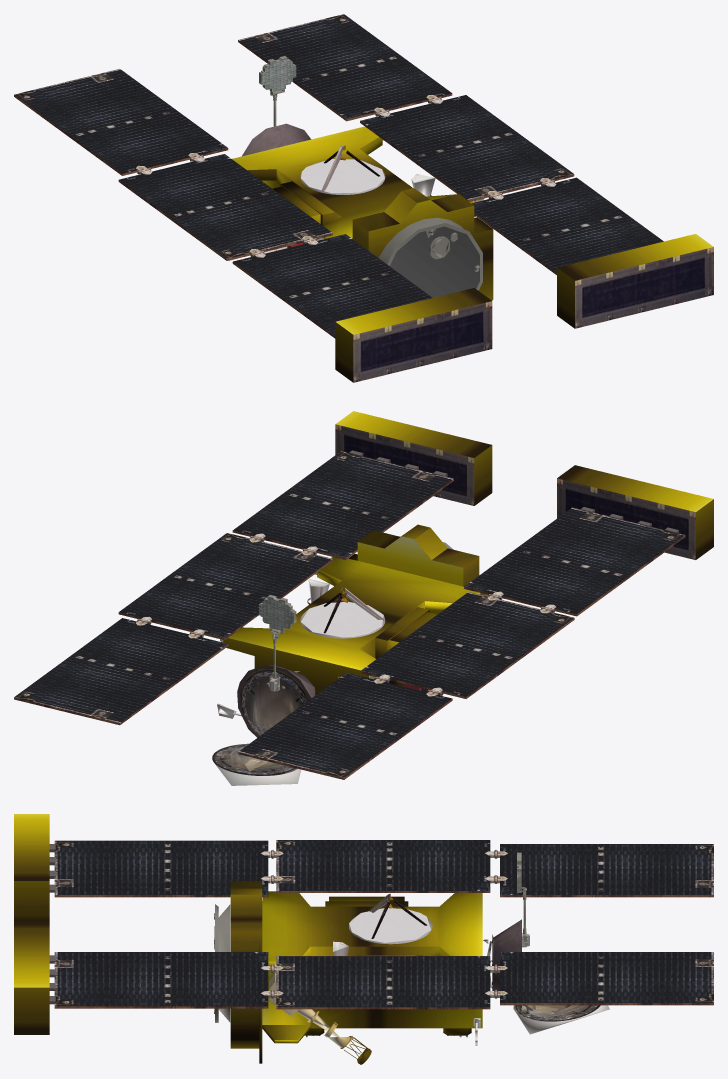
File: stardust-low.glb
3 renders of one model, top to bottom at view 1: azimuth 30°, elevation 25°; view 2: azimuth 150°, elevation 25°; view 3: azimuth 270°, elevation 25°, orthographic.
Parts seen in each view (by area): view 1: shiny_panels, gold_foil, foil_silver, Stardust_tex_02, Stardust_tex_03; view 2: shiny_panels, gold_foil, Stardust_tex_03, Stardust_tex_02; view 3: shiny_panels, gold_foil, Stardust_tex_03, Stardust_tex_02.
Part boxes in pixels (x1=…): shiny_panels: x1=14, y1=14, x2=713, y2=382; gold_foil: x1=232, y1=126, x2=713, y2=382; foil_silver: x1=390, y1=226, x2=479, y2=297; Stardust_tex_02: x1=259, y1=56, x2=482, y2=290; Stardust_tex_03: x1=300, y1=145, x2=385, y2=194; shiny_panels: x1=14, y1=424, x2=695, y2=785; gold_foil: x1=223, y1=411, x2=713, y2=694; Stardust_tex_03: x1=212, y1=587, x2=385, y2=775; Stardust_tex_02: x1=259, y1=542, x2=453, y2=695; shiny_panels: x1=49, y1=840, x2=713, y2=1048; gold_foil: x1=14, y1=814, x2=482, y2=1064; Stardust_tex_03: x1=349, y1=893, x2=600, y2=1021; Stardust_tex_02: x1=214, y1=852, x2=529, y2=1048.
Size of the model in its own units: 2.94 by 1.45 by 5.01.
Materials: 5 (5 with a texture image).
